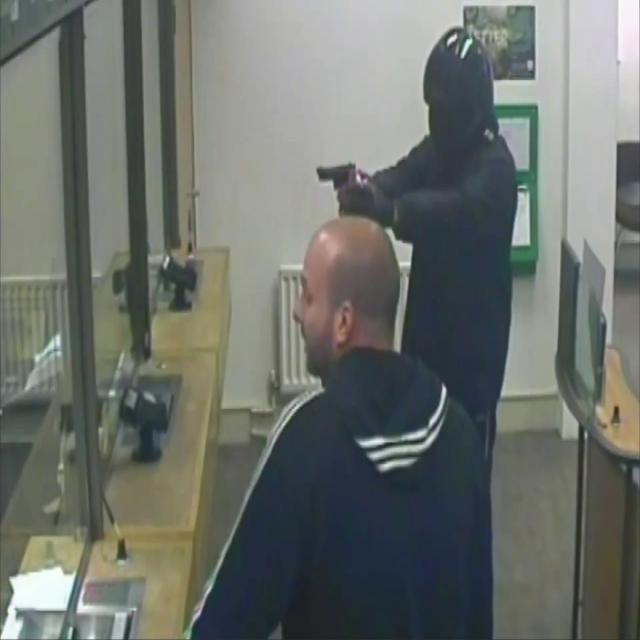weapon: (315, 161, 362, 193)
